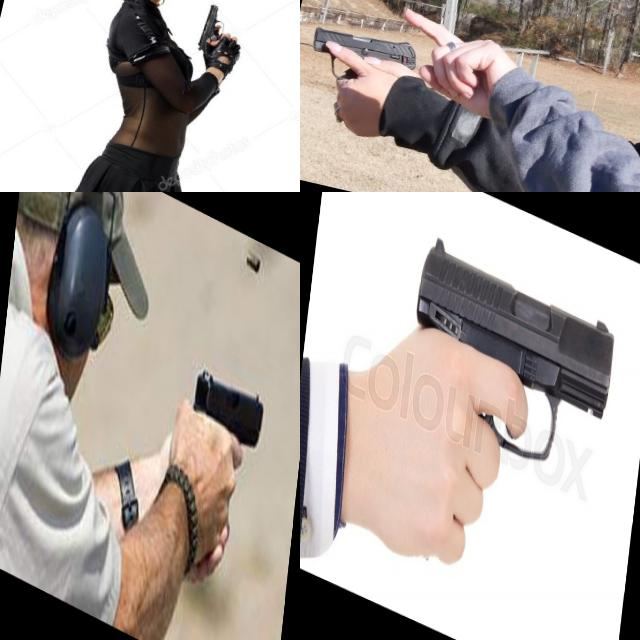handgun: (385, 226, 619, 635), (186, 355, 268, 487), (304, 18, 423, 102), (191, 0, 242, 68)
